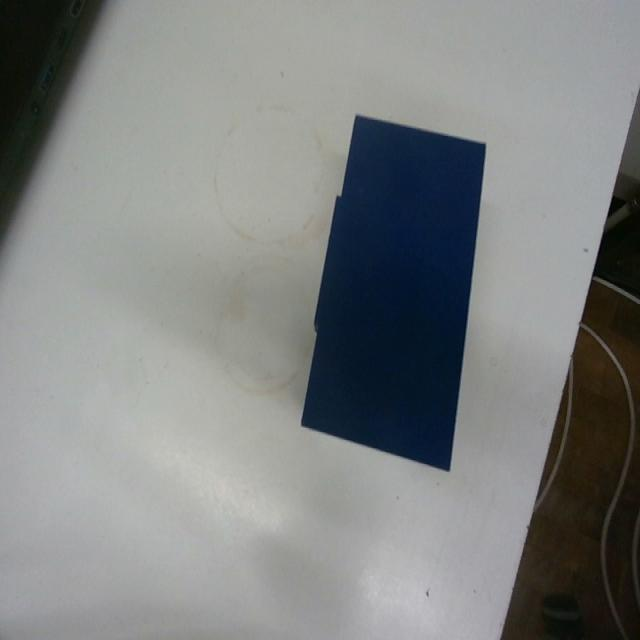Blue Cuboid: (298, 110, 487, 473)
